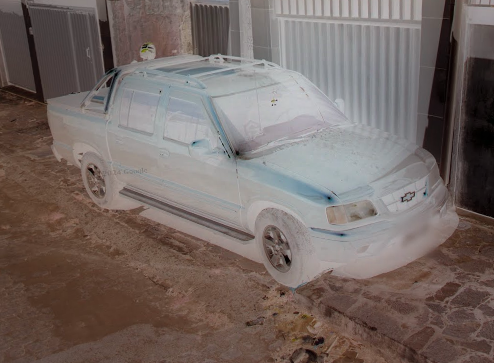car: (45, 52, 451, 295)
